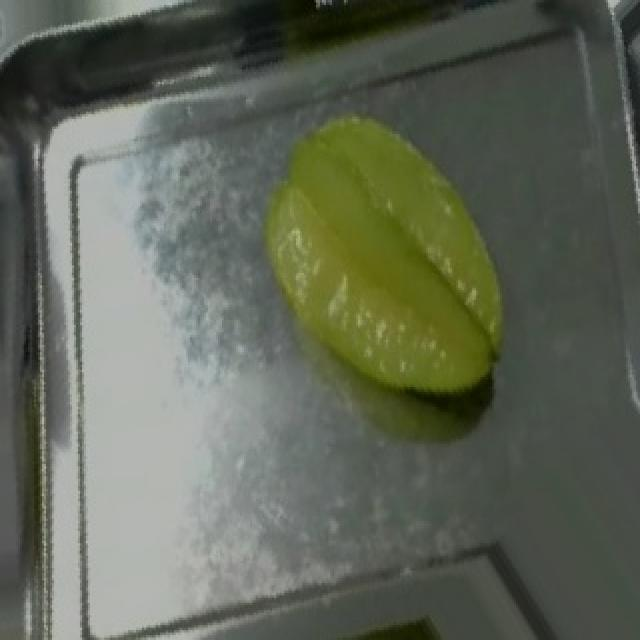fruit: (228, 77, 548, 434)
